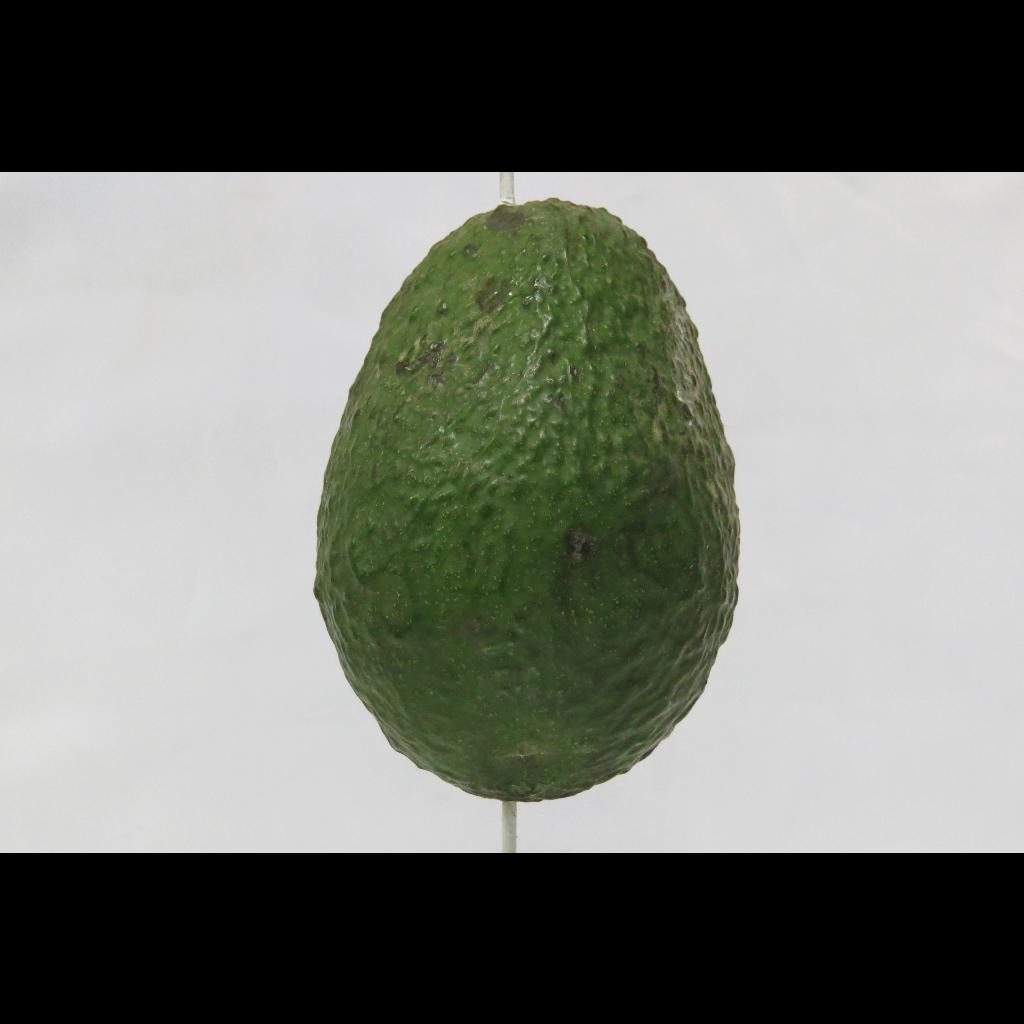Healthy: (290, 179, 766, 847)
